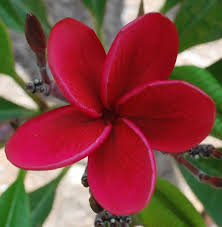frangipani: (7, 13, 217, 215)
